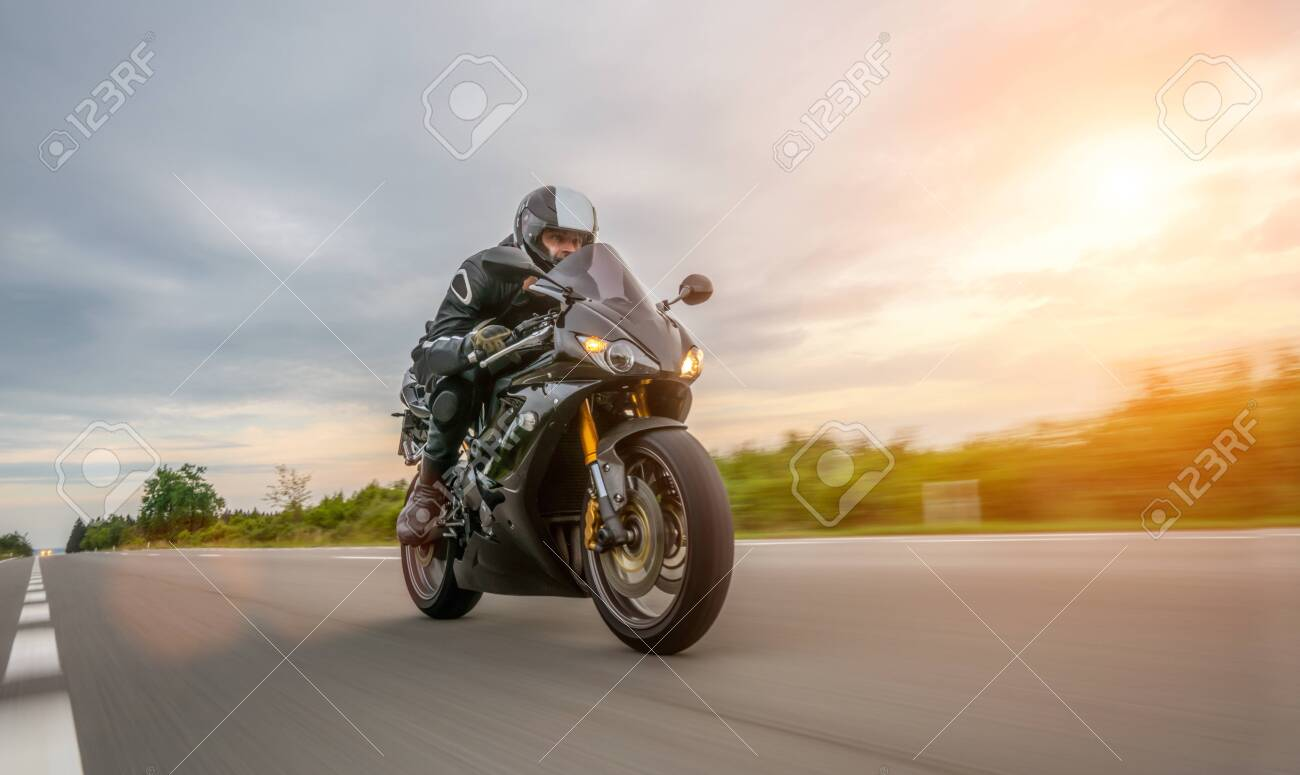Motorcycle: (342, 258, 779, 649)
Tree: (119, 447, 240, 555)
